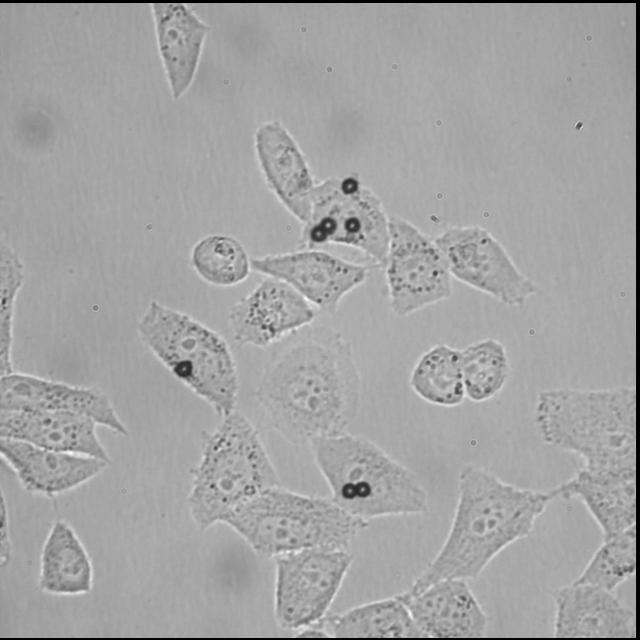microbeads: (343, 216, 362, 234), (342, 178, 361, 195), (319, 216, 337, 232), (356, 479, 372, 497), (311, 224, 327, 240), (342, 482, 356, 498)
